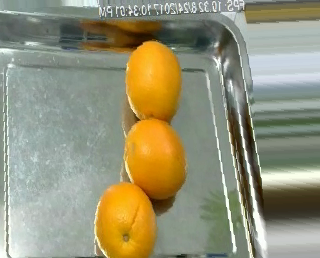Orange: (124, 118, 187, 200), (95, 181, 157, 258), (125, 39, 181, 122)
